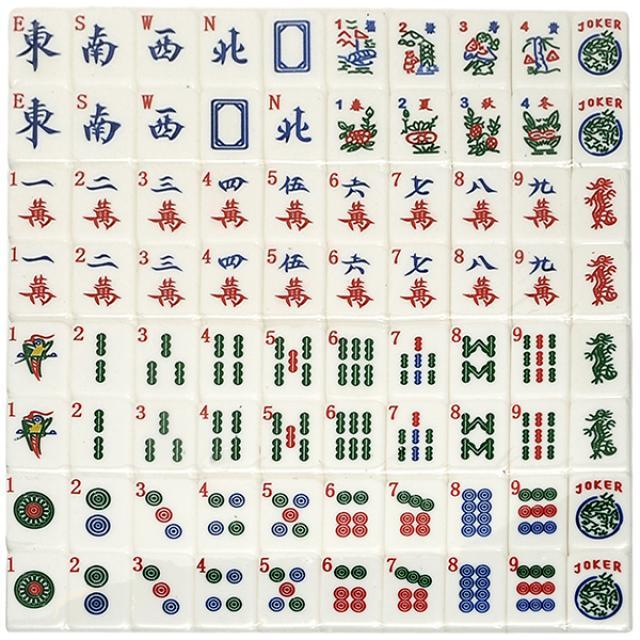bf2: (390, 90, 452, 162)
bs1: (326, 90, 388, 164)
bs3: (454, 90, 512, 164)
bs4: (511, 90, 570, 164)
hdg: (571, 319, 631, 399), (570, 398, 630, 472)
hdr: (572, 167, 630, 245), (572, 244, 630, 318)
hdw: (266, 9, 326, 88), (200, 89, 262, 161)
hwe: (9, 81, 73, 162), (9, 9, 72, 86)
hwn: (202, 10, 264, 90), (263, 90, 324, 164)
hws: (72, 8, 136, 86), (74, 85, 137, 158)
hww: (138, 85, 202, 160), (138, 9, 199, 86)
sb1: (8, 322, 69, 397), (6, 396, 68, 469)
sb2: (72, 320, 136, 398), (70, 398, 134, 470)
sb3: (136, 318, 200, 398), (135, 400, 198, 470)
sb4: (200, 318, 262, 398), (197, 402, 260, 472)
sb5: (264, 321, 326, 399), (260, 402, 323, 472)
sb6: (326, 322, 386, 397), (324, 402, 384, 472)
sb7: (389, 323, 448, 399), (387, 402, 447, 472)
sb8: (451, 320, 510, 399), (449, 400, 508, 470)
sb9: (510, 321, 568, 399), (508, 399, 568, 469)
sc1: (8, 161, 72, 241), (9, 244, 72, 318)
sc2: (72, 160, 136, 242), (73, 244, 137, 317)
sc3: (136, 160, 202, 244), (137, 246, 201, 317)
sc4: (202, 164, 264, 244), (202, 242, 264, 317)
sc5: (264, 163, 326, 244), (262, 242, 326, 318)
sc6: (326, 162, 388, 245), (326, 246, 388, 318)
sc7: (389, 164, 451, 244), (389, 244, 450, 318)
sc8: (454, 165, 512, 245), (453, 246, 511, 318)
sc9: (511, 164, 570, 244), (511, 244, 570, 318)
sd1: (6, 474, 68, 550), (7, 552, 68, 626)
sd2: (69, 474, 134, 552), (68, 552, 132, 627)
sd3: (136, 476, 198, 554), (133, 555, 194, 628)
sd4: (198, 474, 262, 552), (195, 556, 257, 628)
sd5: (260, 476, 322, 553), (258, 554, 318, 623)
sd6: (324, 474, 384, 554), (321, 554, 382, 622)
sd7: (386, 476, 446, 554), (383, 556, 444, 626)
sd8: (448, 476, 508, 554), (446, 554, 506, 626)
sd9: (508, 475, 566, 552), (507, 554, 565, 626)
